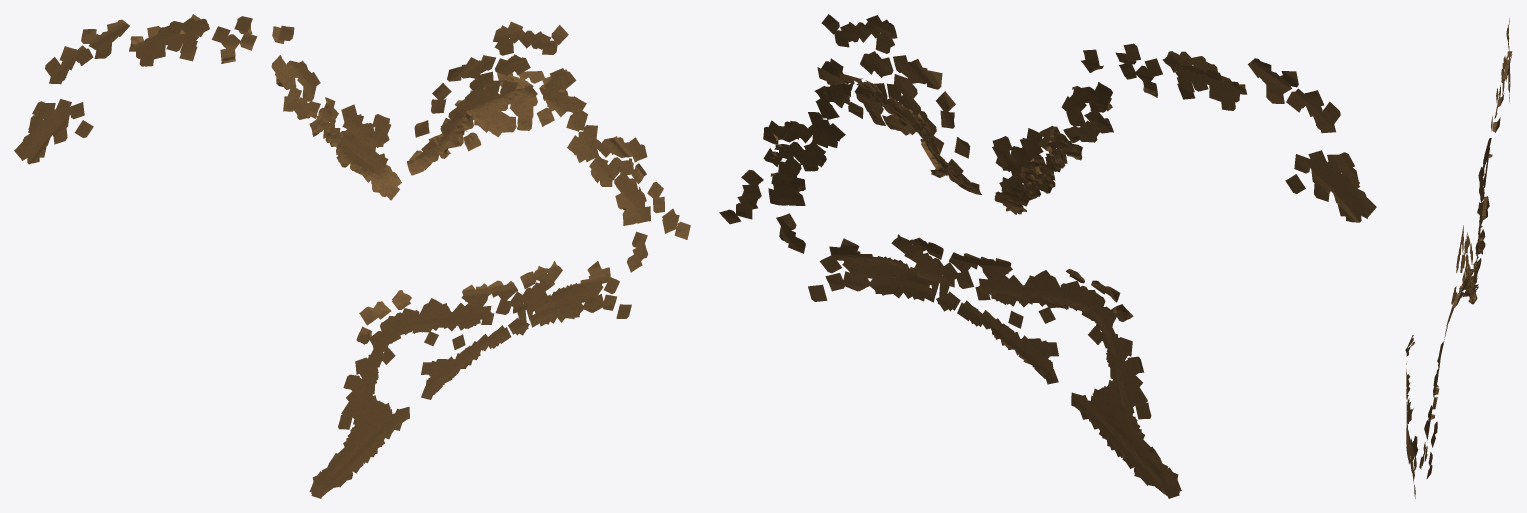
The picture shows the model from 3 angles, left to right: view 1: azimuth 30°, elevation 25°; view 2: azimuth 150°, elevation 25°; view 3: azimuth 270°, elevation 25°; orthographic projection. The views are drawn at different scales.
Bounding box in the file's own units: 232 × 165 × 42.44.
Materials: 1 (1 with a texture image).
